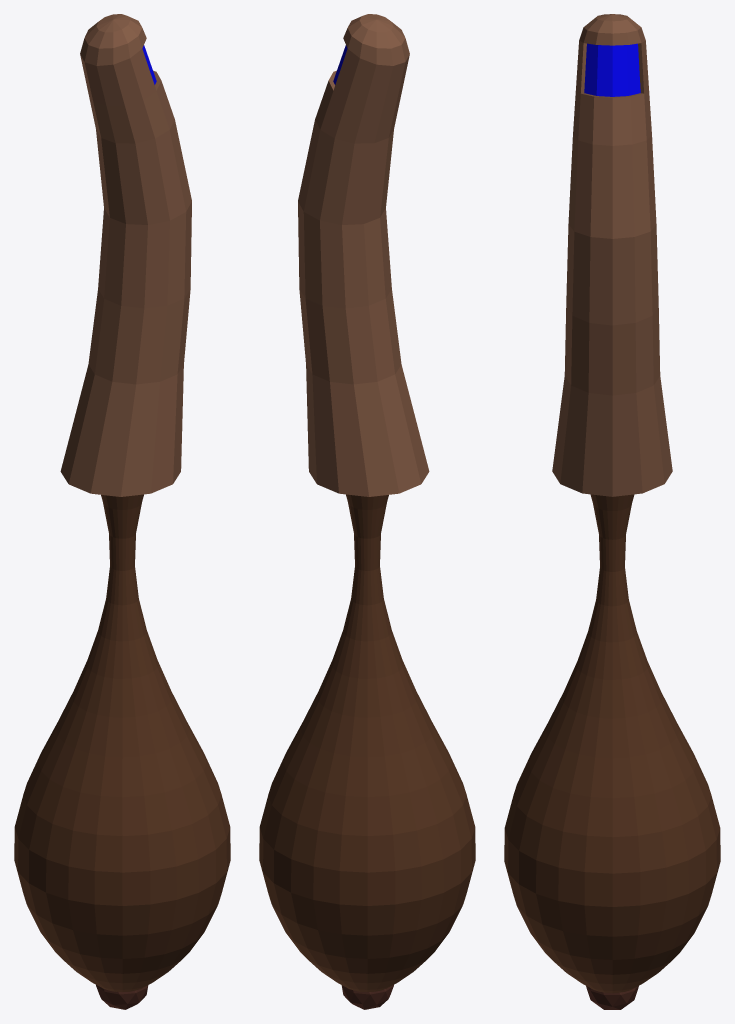
Rendered from Wand 940.glb.
The picture shows the model from 3 angles, left to right: view 1: azimuth 30°, elevation 25°; view 2: azimuth 150°, elevation 25°; view 3: azimuth 270°, elevation 25°; orthographic projection.
Parts seen in each view (by area): view 1: GeneratedWand; view 2: GeneratedWand; view 3: GeneratedWand.
Part boxes in pixels (box(x1,y1,x2,y2)): GeneratedWand: box(14, 14, 230, 1009); GeneratedWand: box(259, 14, 475, 1009); GeneratedWand: box(504, 14, 720, 1009).
Size of the model in its own units: 0.1026 by 0.5182 by 0.1026.
